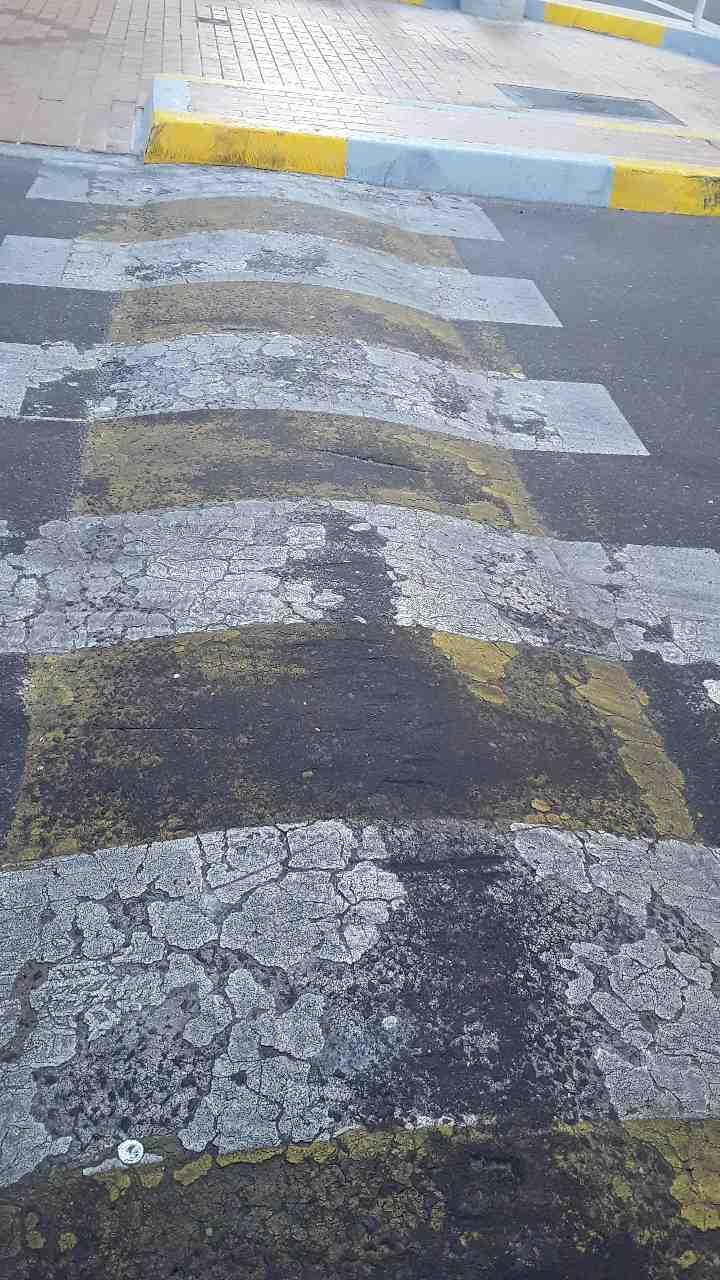Alligator: (252, 448, 468, 832)
